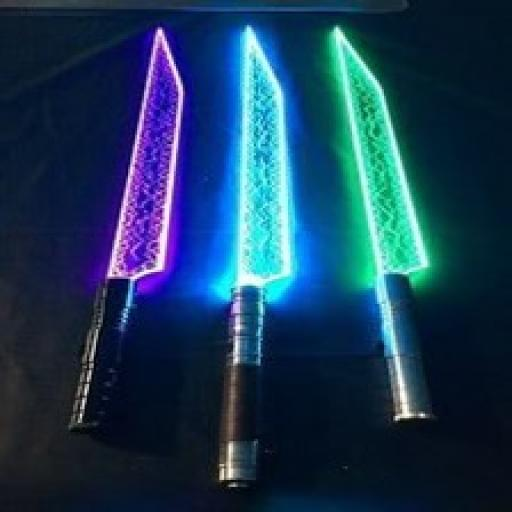lightsaber: (206, 280, 271, 496)
